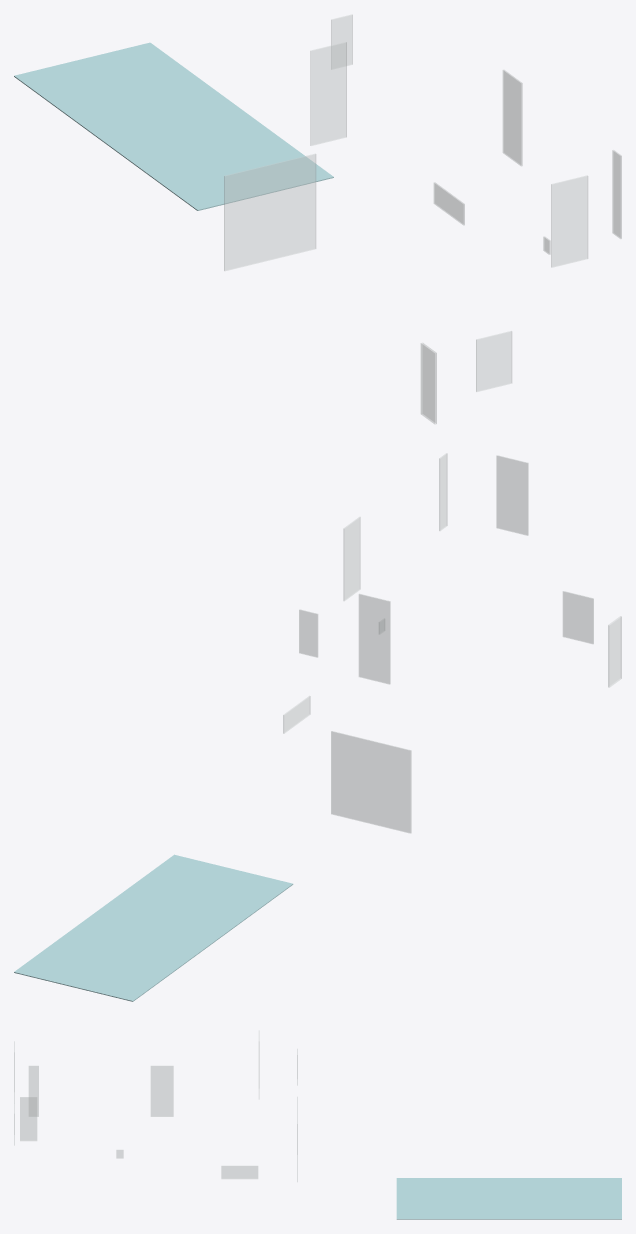
The model's file is ctx_vidrios.glb.
The picture shows the model from 3 angles, top to bottom: view 1: azimuth 30°, elevation 25°; view 2: azimuth 150°, elevation 25°; view 3: azimuth 270°, elevation 25°; orthographic projection. The views are drawn at different scales.
Visible parts, largest first — view 1: B_Ctx_Vidrios; view 2: B_Ctx_Vidrios; view 3: B_Ctx_Vidrios.
Boxes of the visible parts, x1,y1,x2,y2 form: B_Ctx_Vidrios: (14, 14, 621, 424); B_Ctx_Vidrios: (14, 453, 621, 1001); B_Ctx_Vidrios: (14, 1030, 621, 1219).
Bounding box in the file's own units: 4.53 × 5.14 × 18.89.
